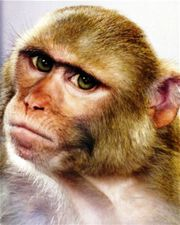monkey: (11, 12, 170, 202)
